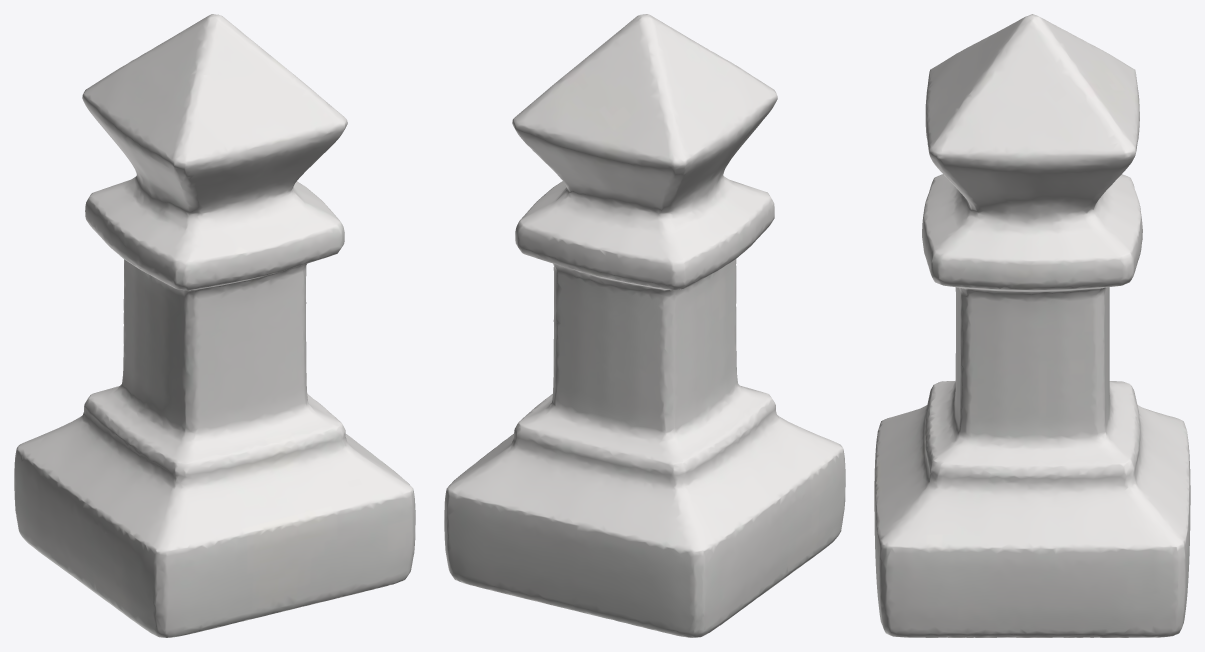
Rendered from pawn_high.glb.
3 views of the same model, side by side, from view 1: azimuth 30°, elevation 25°; view 2: azimuth 150°, elevation 25°; view 3: azimuth 270°, elevation 25° (orthographic). The views are drawn at different scales.
Visible parts, largest first — view 1: world; view 2: world; view 3: world.
Boxes of the visible parts, left/top/right/bottom form: world: left=14, top=14, right=415, bottom=637; world: left=444, top=14, right=845, bottom=637; world: left=874, top=14, right=1190, bottom=637.
Bounding box in the file's own units: 0.5178 × 1 × 0.5128.
Materials: 1 (1 with a texture image).
